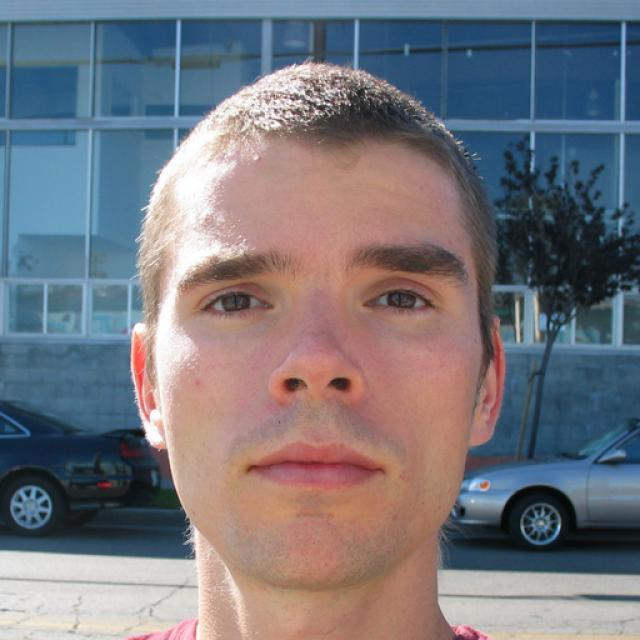neutral: (159, 136, 480, 589)
